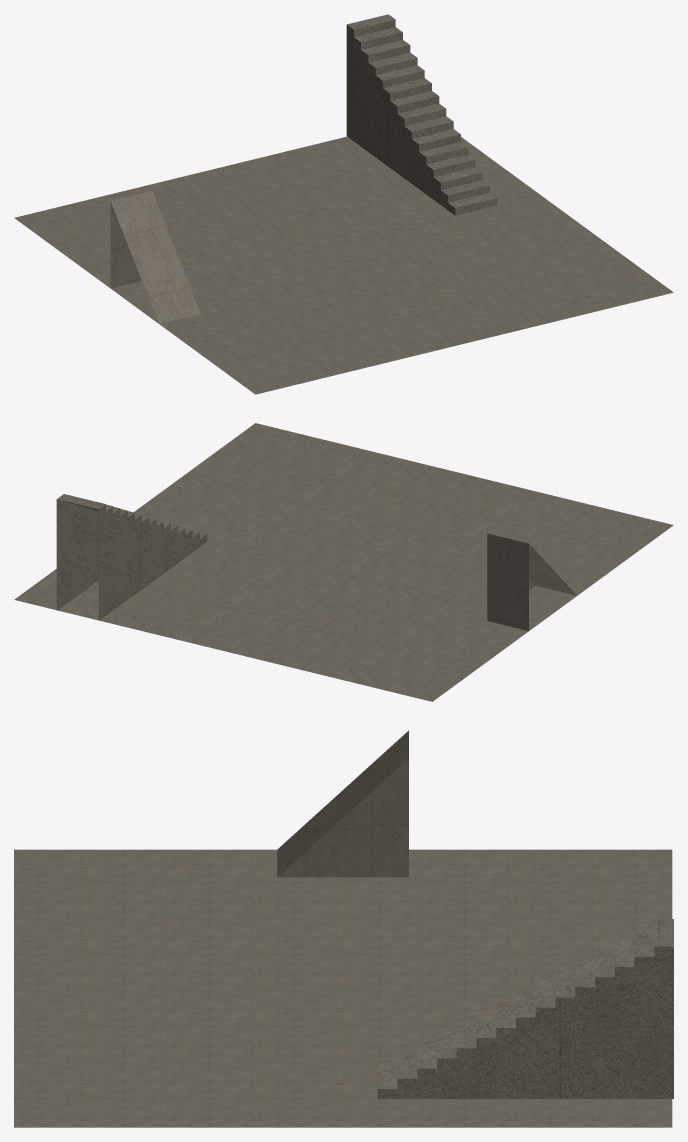
The picture shows the model from 3 angles, top to bottom: view 1: azimuth 30°, elevation 25°; view 2: azimuth 150°, elevation 25°; view 3: azimuth 270°, elevation 25°; orthographic projection. The views are drawn at different scales.
Visible parts, largest first — view 1: base; view 2: base; view 3: base.
Part boxes in pixels (x1,y1,x2,y2): base: (14,14,673,394); base: (14,423,673,701); base: (14,730,673,1127).
Size of the model in its own units: 10 by 2.55 by 10.02.
1 material, 1 textured.
